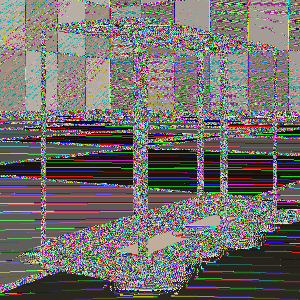Rack: (37, 14, 283, 289)
